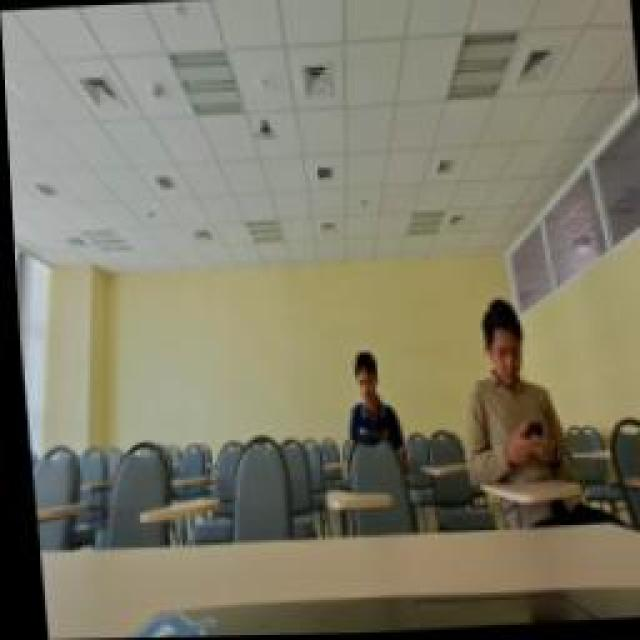phone: (447, 298, 565, 492)
study: (327, 342, 405, 492)
